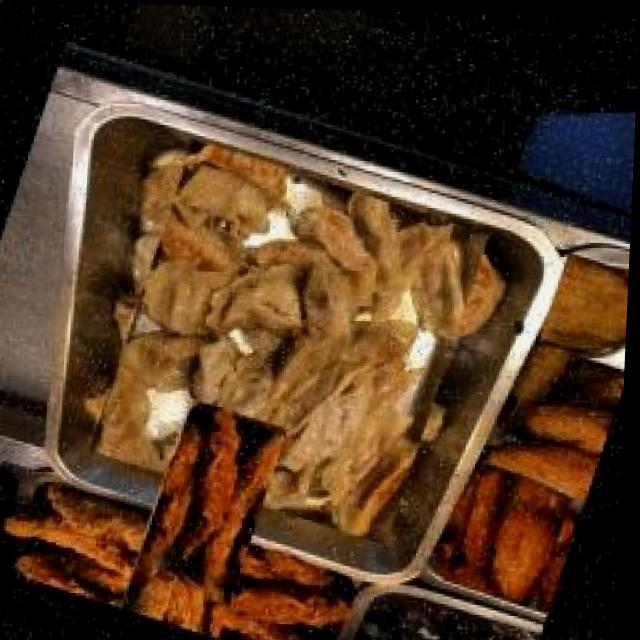chicken_nuggets: (540, 248, 632, 368)
fried_chicken: (68, 434, 330, 640)
fried_dumplings: (86, 140, 495, 545)
triangle_hash_brown: (441, 463, 584, 604)
